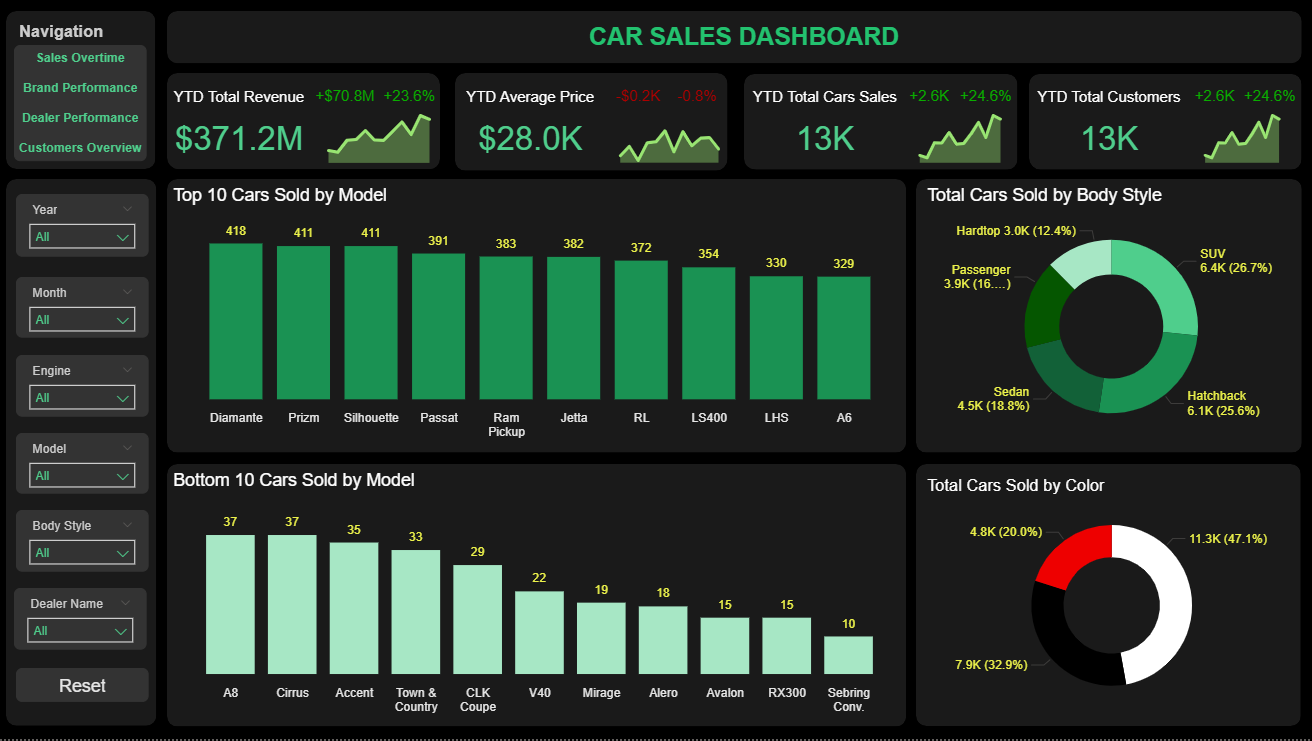

The dashboard page shown, as its layout file describes it:
{"tool":"powerbi","page":{"name":"Model Performance","canvas":[1280,720],"ordinal":1},"visuals":[{"type":"shape","box":[7.3,11.8,145.5,153.6],"z":0},{"type":"shape","box":[163.6,11.8,1103.6,50.9],"z":1000},{"type":"shape","box":[6.4,175.5,146.4,531.8],"z":2000},{"type":"shape","box":[1002,73,265,92],"z":3000},{"type":"shape","box":[724.5,72.7,264.5,92.7],"z":4000},{"type":"shape","box":[443.3,71.6,265.1,93.1],"z":5000},{"type":"shape","box":[163.6,71.8,264.5,92.7],"z":6000},{"type":"shape","box":[891.8,175.5,375.5,266.4],"z":7000},{"type":"slicer","fields":{"Values":["DateTable.Year"]},"box":[16.4,190,129.1,60.9],"z":8000},{"type":"slicer","fields":{"Values":["Car Model.Engine"]},"box":[16.4,346.4,129.1,60],"z":9000},{"type":"slicer","fields":{"Values":["Car Model.Model"]},"box":[16.4,421.8,129.1,59.1],"z":10000},{"type":"slicer","fields":{"Values":["Dealer.Dealer_Name"]},"box":[14.5,572.7,129.1,60],"z":11000},{"type":"slicer","fields":{"Values":["Car Model.Body Style"]},"box":[16.4,497.3,129.1,60],"z":12000},{"type":"textbox","box":[455.2,17.5,538.8,39.9],"z":13000},{"type":"textbox","box":[14.5,17.3,138.2,29.1],"z":14000},{"type":"actionButton","box":[16.4,650.9,129.1,32.7],"z":15000},{"type":"slicer","fields":{"Values":["DateTable.Month Name"]},"box":[16.4,270,129.1,59.1],"z":16000},{"type":"donutChart","fields":{"Y":["Car Sales Datasets.Total Cars Sold"],"Category":["Car Model.Body Style"]},"box":[898.2,180.9,368.1,255.2],"z":17000},{"type":"shape","box":[891.9,452.3,374.5,254.8],"z":18000},{"type":"shape","box":[163.6,175.5,719.1,266.4],"z":19000},{"type":"shape","title":"Top 10 Cars Sold by Model","box":[163.6,451.8,719.1,255.5],"z":20000},{"type":"columnChart","title":"Top 10 Cars Sold by Model","fields":{"Y":["Car Sales Datasets.Total Cars Sold"],"Category":["Car Model.Model"]},"box":[164.5,180.9,715.5,255.5],"z":21000},{"type":"columnChart","title":"Bottom 10 Cars Sold by Model","fields":{"Y":["Car Sales Datasets.Total Cars Sold"],"Category":["Car Model.Model"]},"box":[164.5,458.2,715.5,245.5],"z":22000},{"type":"donutChart","title":"Total Cars Sold by Color","fields":{"Y":["Car Sales Datasets.Total Cars Sold"],"Category":["Car Model.Color"]},"box":[898.2,464.5,369.1,232.7],"z":23000},{"type":"pageNavigator","box":[14.5,44.5,129.1,112.7],"z":24000},{"type":"shape","box":[164.5,72.7,264.5,92.7],"z":25000},{"type":"card","title":"YTD Total Revenue","fields":{"Values":["Measrure.YTD Revenue"]},"box":[164.5,87.3,138.2,78.2],"z":26000},{"type":"card","fields":{"Values":["Sales.Revenue Diff and Icon"]},"box":[302.7,72.7,68.2,46.4],"z":27000},{"type":"card","fields":{"Values":["Measrure.YOY Revenue Growth and Icon"]},"box":[368.2,72.7,60.9,46.4],"z":28000},{"type":"shape","box":[443.2,73.4,264.2,93.1],"z":29000},{"type":"shape","box":[444.1,72.5,264.2,93.1],"z":30000},{"type":"card","fields":{"Values":["Measrure.Avg Sale Price Diff and Icon"]},"box":[589.1,72.7,64.5,46.4],"z":31000},{"type":"card","fields":{"Values":["Measrure.YOY Avg Price Growth and Icon"]},"box":[653.6,72.7,50.9,46.4],"z":32000},{"type":"card","title":" YTD Average Price","fields":{"Values":["Measrure.YTD Avg Sale Price"]},"box":[444.5,87.3,144.5,78.2],"z":33000},{"type":"shape","box":[726.3,72.5,264.2,93.1],"z":34000},{"type":"card","title":"YTD Total Cars Sales","fields":{"Values":["Measrure.YTD Total Cars Sold"]},"box":[726.4,87.3,153.6,78.2],"z":35000},{"type":"card","fields":{"Values":["Measrure.Total Cars Sold Diff and Icon"]},"box":[880,72.7,49.1,46.4],"z":36000},{"type":"card","fields":{"Values":["Measure.YOY Total Cars Sold Growth and Icon"]},"box":[929.1,72.7,61.8,46.4],"z":37000},{"type":"shape","box":[1003,72.5,264.2,93.1],"z":38000},{"type":"card","title":"YTD Total Customers","fields":{"Values":["Measure.YTD Total Customers"]},"box":[1002.7,87.3,153.6,78.2],"z":39000},{"type":"card","fields":{"Values":["Measure.Total Customers Diff and Icon"]},"box":[1156.4,72.7,51.8,46.4],"z":40000},{"type":"card","fields":{"Values":["Measure.YOY Total Customers Growth and Icon"]},"box":[1205.5,72.7,61.8,46.4],"z":41000},{"type":"lineChart","fields":{"Category":["DateTable.Month Number"],"Y":["Measure.Total Revenue"]},"box":[296.4,86,163.9,78.8],"z":42000},{"type":"lineChart","fields":{"Category":["DateTable.Month Number"],"Y":["Measure.Average Sale Price"]},"box":[580.3,99.4,160.3,65.4],"z":43000},{"type":"lineChart","fields":{"Category":["DateTable.Month Number"],"Y":["Measure.Total Cars Sold"]},"box":[873.1,96.7,137,68.1],"z":44000},{"type":"lineChart","fields":{"Category":["DateTable.Month Number"],"Y":["Customer.Total Customers"]},"box":[1151.6,96.7,128.1,68.1],"z":45000}]}

Visuals, with their boxes in screenshot pixels (x1, y1, x2, y2), scaled from the page's 1280x720 canvas onto the 1312x741 screenshot:
shape: region(7, 12, 157, 170)
shape: region(168, 12, 1299, 65)
shape: region(7, 181, 157, 728)
shape: region(1027, 75, 1299, 170)
shape: region(743, 75, 1014, 170)
shape: region(454, 74, 726, 170)
shape: region(168, 74, 439, 169)
shape: region(914, 181, 1299, 455)
slicer - DateTable.Year: region(17, 196, 149, 258)
slicer - Car Model.Engine: region(17, 357, 149, 418)
slicer - Car Model.Model: region(17, 434, 149, 495)
slicer - Dealer.Dealer_Name: region(15, 589, 147, 651)
slicer - Car Model.Body Style: region(17, 512, 149, 574)
textbox: region(467, 18, 1019, 59)
textbox: region(15, 18, 157, 48)
actionButton: region(17, 670, 149, 704)
slicer - DateTable.Month Name: region(17, 278, 149, 339)
donutChart - Car Sales Datasets.Total Cars Sold x Car Model.Body Style: region(921, 186, 1298, 449)
shape: region(914, 465, 1298, 728)
shape: region(168, 181, 905, 455)
"Top 10 Cars Sold by Model" shape: region(168, 465, 905, 728)
"Top 10 Cars Sold by Model" columnChart: region(169, 186, 902, 449)
"Bottom 10 Cars Sold by Model" columnChart: region(169, 472, 902, 724)
"Total Cars Sold by Color" donutChart: region(921, 478, 1299, 718)
pageNavigator: region(15, 46, 147, 162)
shape: region(169, 75, 440, 170)
"YTD Total Revenue" card: region(169, 90, 310, 170)
card - Sales.Revenue Diff and Icon: region(310, 75, 380, 123)
card - Measrure.YOY Revenue Growth and Icon: region(377, 75, 440, 123)
shape: region(454, 76, 725, 171)
shape: region(455, 75, 726, 170)
card - Measrure.Avg Sale Price Diff and Icon: region(604, 75, 670, 123)
card - Measrure.YOY Avg Price Growth and Icon: region(670, 75, 722, 123)
" YTD Average Price" card: region(456, 90, 604, 170)
shape: region(744, 75, 1015, 170)
"YTD Total Cars Sales" card: region(745, 90, 902, 170)
card - Measrure.Total Cars Sold Diff and Icon: region(902, 75, 952, 123)
card - Measure.YOY Total Cars Sold Growth and Icon: region(952, 75, 1016, 123)
shape: region(1028, 75, 1299, 170)
"YTD Total Customers" card: region(1028, 90, 1185, 170)
card - Measure.Total Customers Diff and Icon: region(1185, 75, 1238, 123)
card - Measure.YOY Total Customers Growth and Icon: region(1236, 75, 1299, 123)
lineChart - DateTable.Month Number x Measure.Total Revenue: region(304, 89, 472, 170)
lineChart - DateTable.Month Number x Measure.Average Sale Price: region(595, 102, 759, 170)
lineChart - DateTable.Month Number x Measure.Total Cars Sold: region(895, 100, 1035, 170)
lineChart - DateTable.Month Number x Customer.Total Customers: region(1180, 100, 1311, 170)
